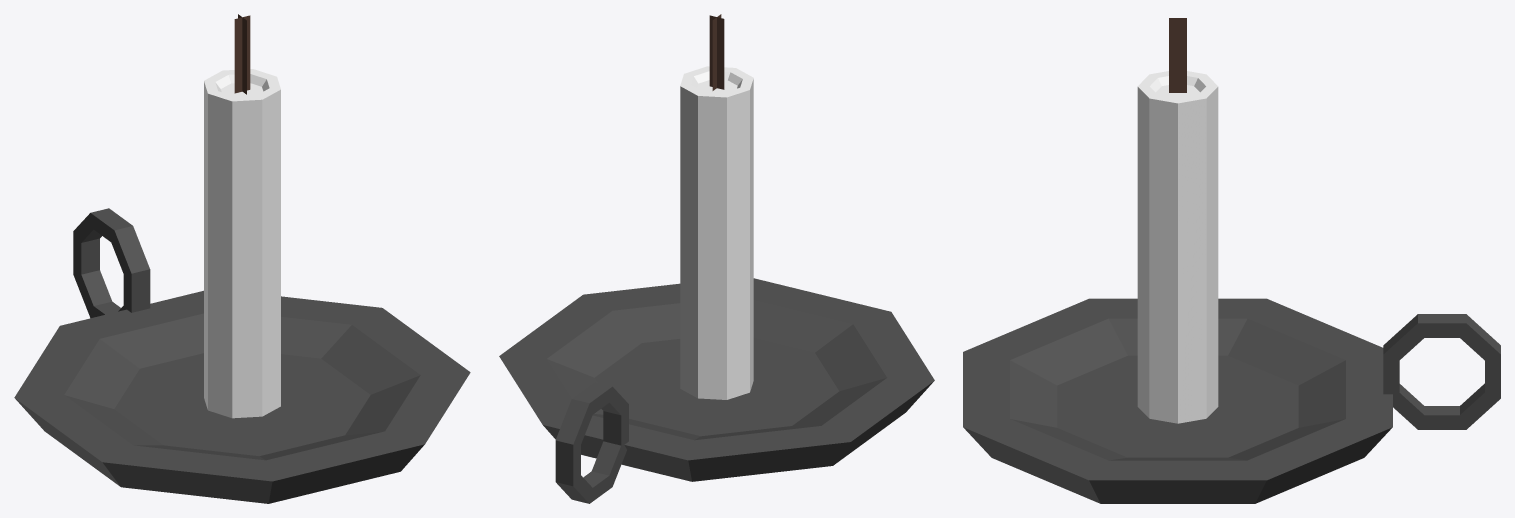
The model's file is candle_336x06.obj.
3 renders of one model, left to right at view 1: azimuth 30°, elevation 25°; view 2: azimuth 150°, elevation 25°; view 3: azimuth 270°, elevation 25°, orthographic. The views are drawn at different scales.
Parts seen in each view (by area): view 1: Candle; view 2: Candle; view 3: Candle.
Part boxes in pixels (left/top/right/bottom): Candle: left=14, top=14, right=470, bottom=503; Candle: left=499, top=14, right=934, bottom=503; Candle: left=963, top=18, right=1500, bottom=503.
Bounding box in the file's own units: 0.3453 × 0.361 × 0.432.
